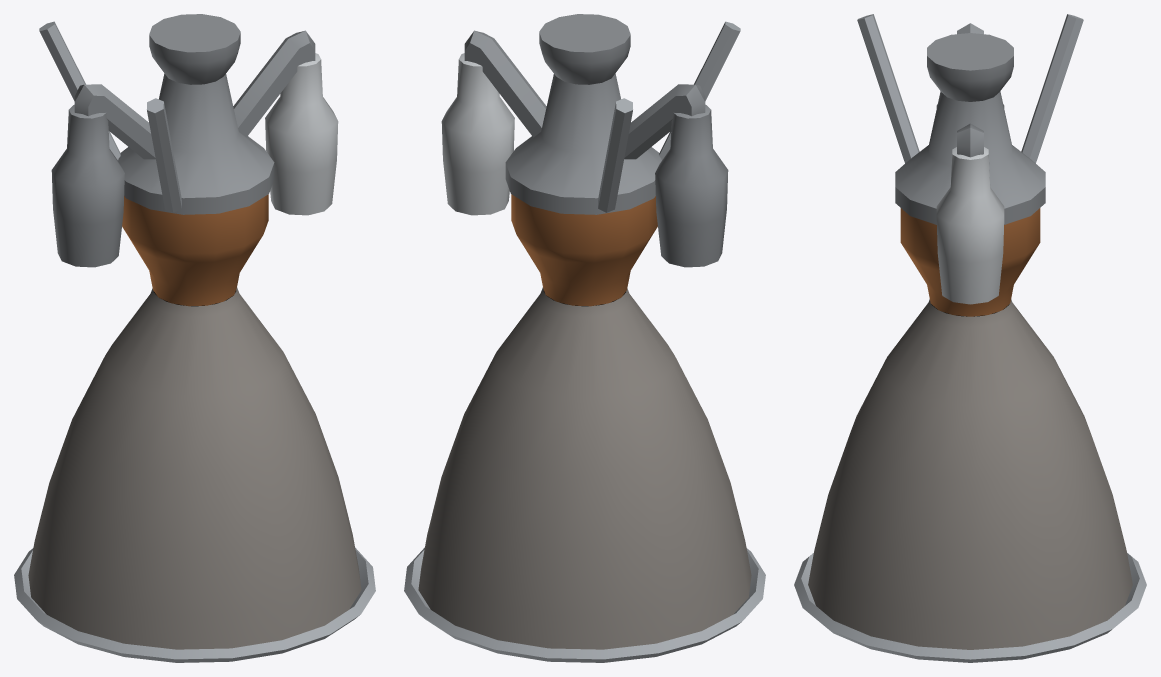
The model's file is engine_s_lod.glb.
3 renders of one model, left to right at view 1: azimuth 30°, elevation 25°; view 2: azimuth 150°, elevation 25°; view 3: azimuth 270°, elevation 25°, orthographic. The views are drawn at different scales.
Visible parts, largest first — view 1: engine_lod; view 2: engine_lod; view 3: engine_lod.
Boxes of the visible parts, x1=… form: engine_lod: x1=14, y1=14, x2=375, y2=662; engine_lod: x1=404, y1=14, x2=765, y2=662; engine_lod: x1=794, y1=14, x2=1146, y2=662.
Bounding box in the file's own units: 0.9801 × 1.65 × 0.9801.
